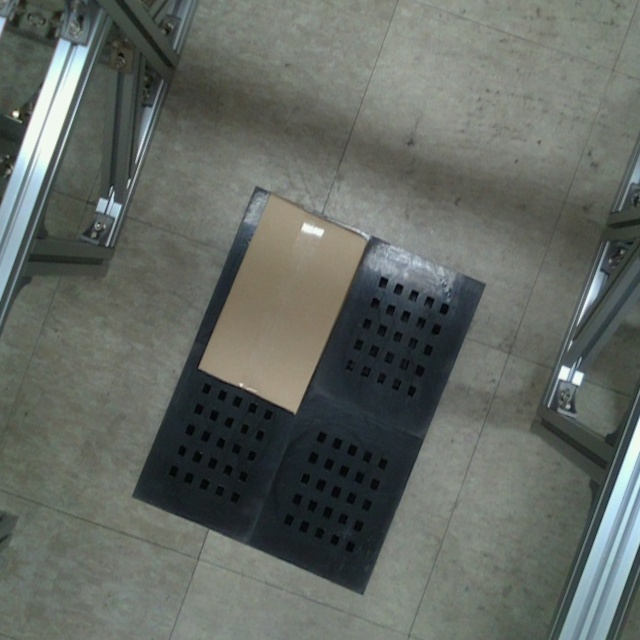box: (188, 186, 378, 423)
pallet: (119, 178, 499, 608)
